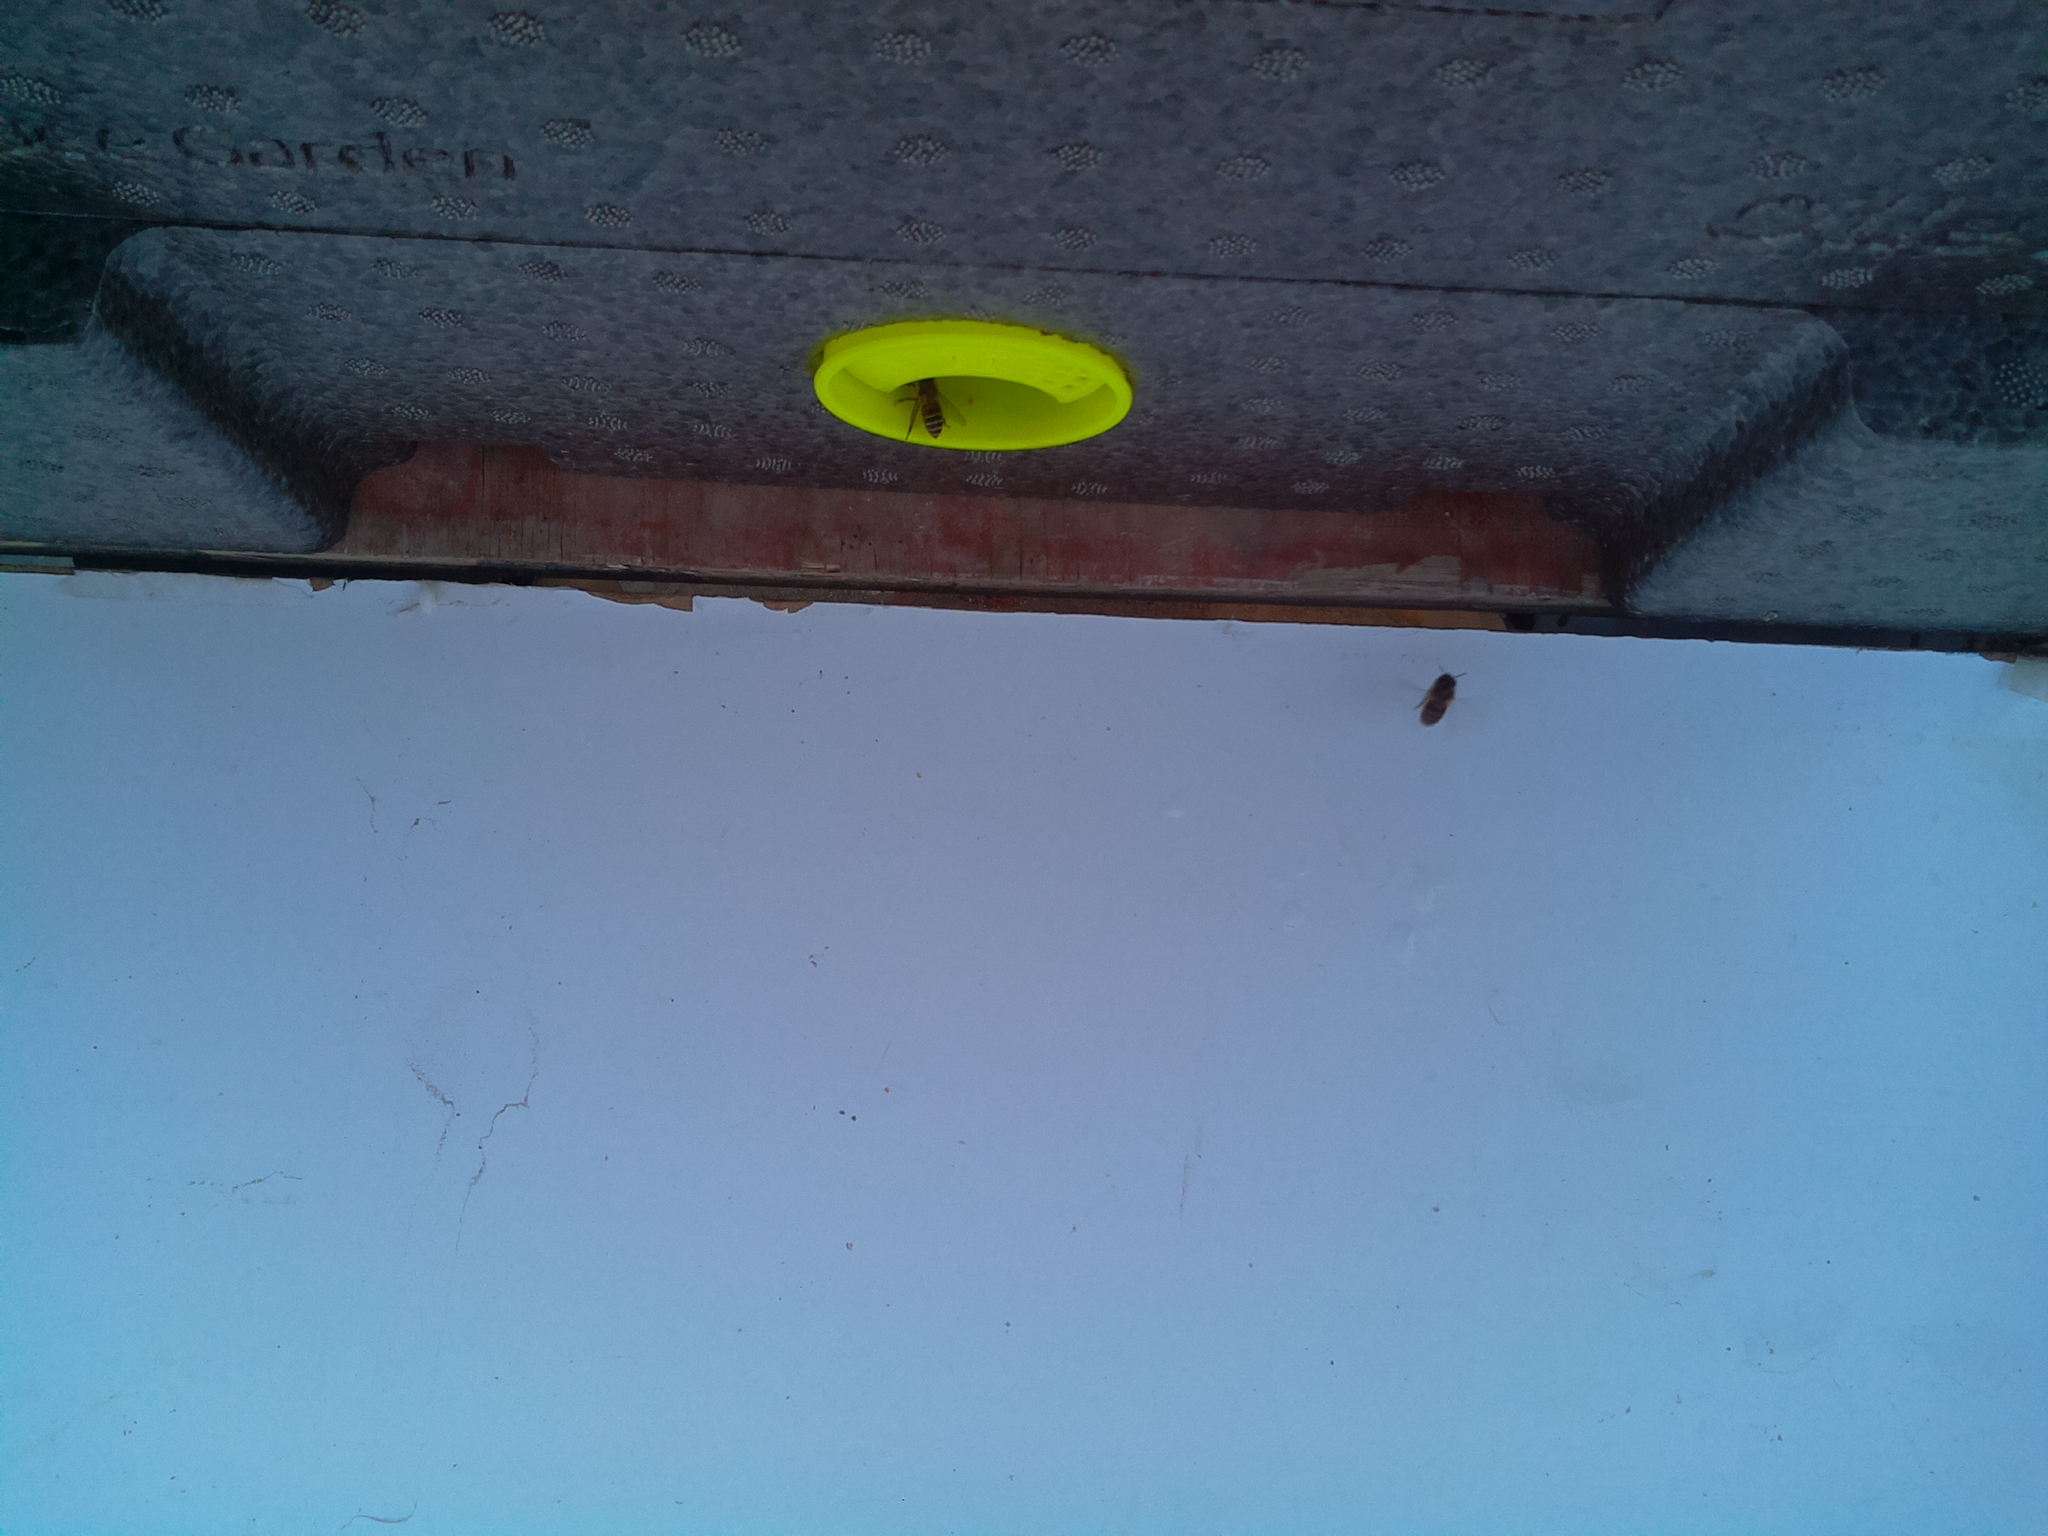bee: (899, 371, 956, 443), (1407, 668, 1465, 726)
